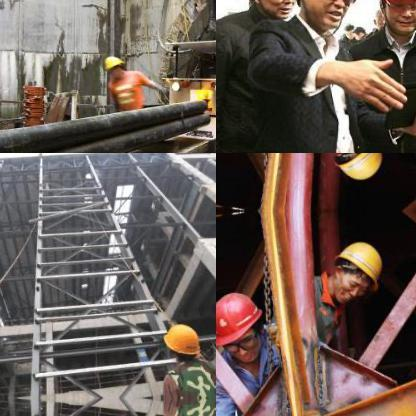Helmet: (324, 234, 386, 302), (216, 286, 268, 359), (324, 153, 387, 186), (161, 319, 203, 361), (290, 0, 350, 28), (375, 0, 415, 32), (244, 0, 298, 17), (102, 52, 126, 76)
